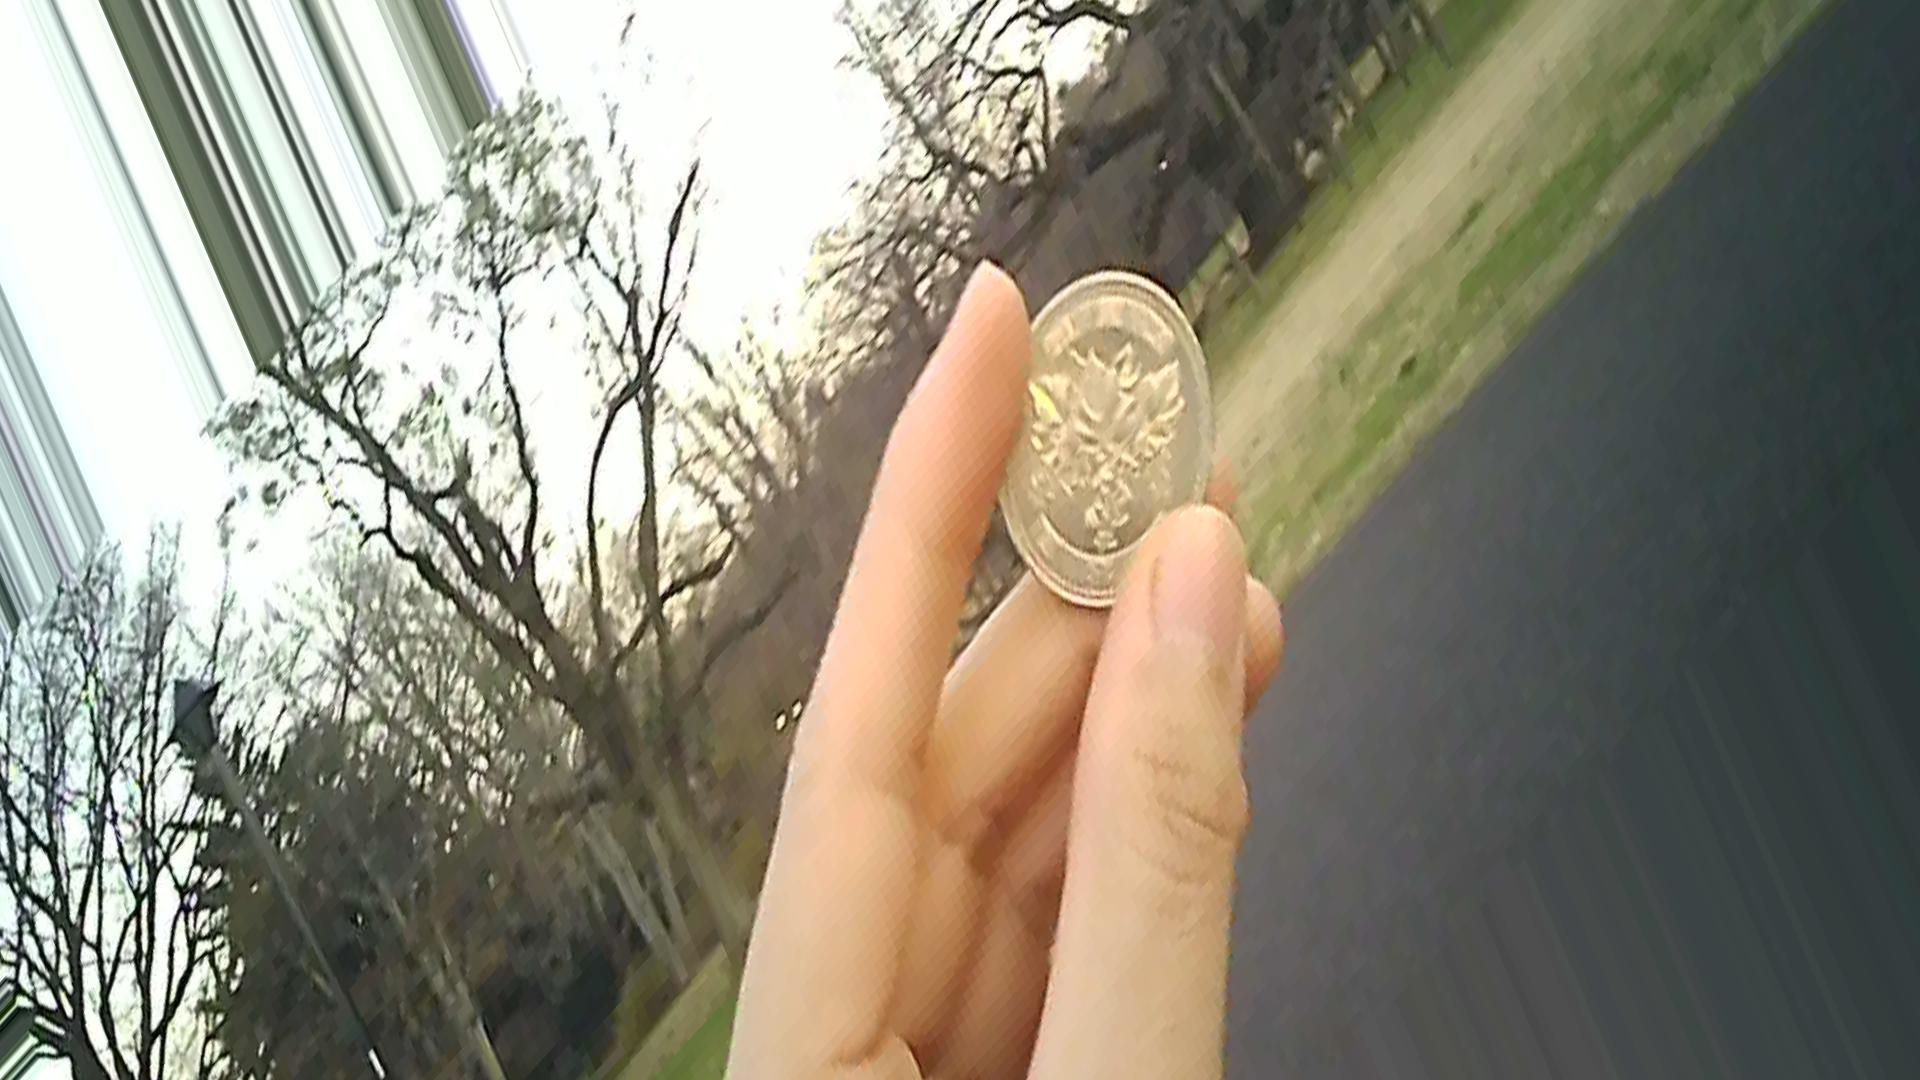500 Yen: (1000, 260, 1211, 616)
